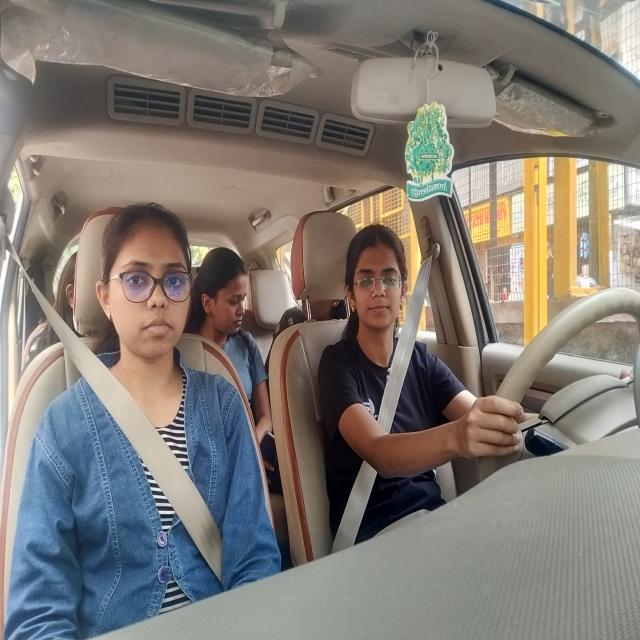person: (95, 198, 192, 376), (346, 221, 410, 343), (200, 242, 252, 345)
